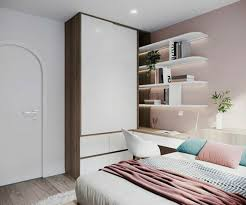Bed: (77, 137, 246, 205)
Chair: (116, 125, 165, 165)
Closet: (63, 14, 139, 172)
